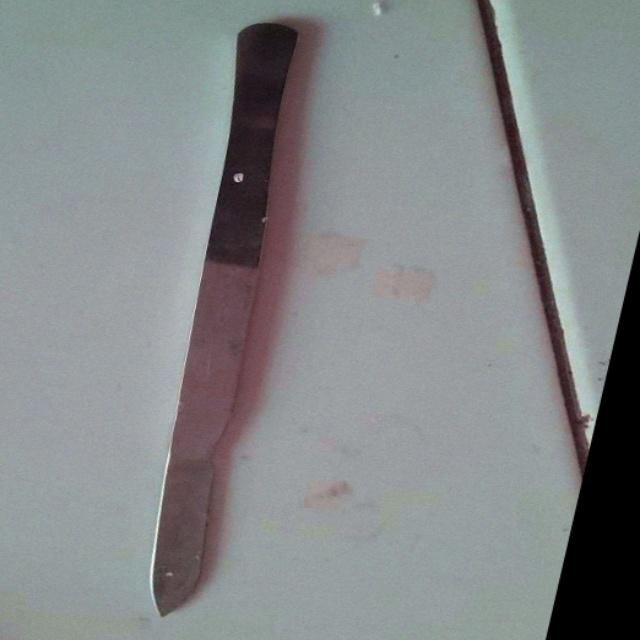Knife: (97, 8, 340, 622)
